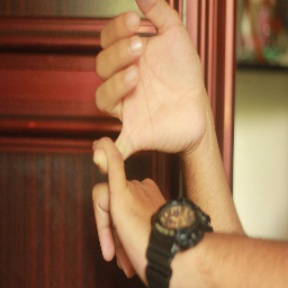S: (79, 2, 210, 279)
